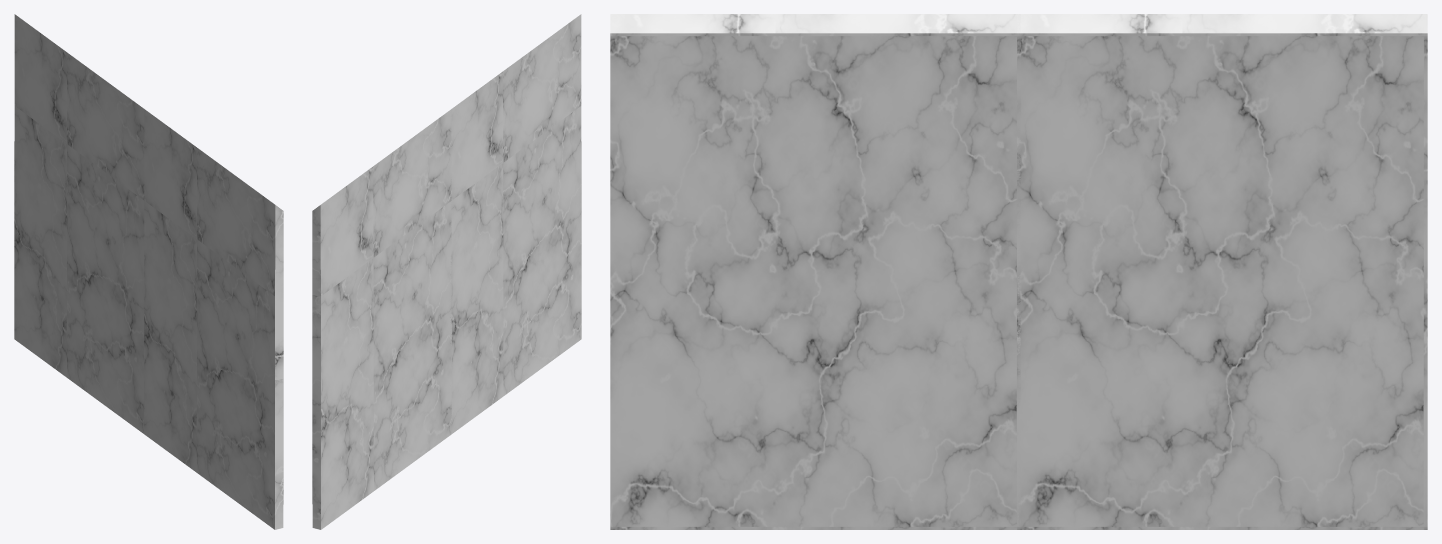
Rendered from Wall Tiles 2.fbx.
The picture shows the model from 3 angles, left to right: view 1: azimuth 30°, elevation 25°; view 2: azimuth 150°, elevation 25°; view 3: azimuth 270°, elevation 25°; orthographic projection. The views are drawn at different scales.
Visible parts, largest first — view 1: Plane.008; view 2: Plane.008; view 3: Plane.008.
Part boxes in pixels (x1,y1,x2,y2): Plane.008: (14,14,283,529); Plane.008: (312,14,581,529); Plane.008: (610,14,1427,529).
Size of the model in its own units: 5.46 by 193 by 280.
